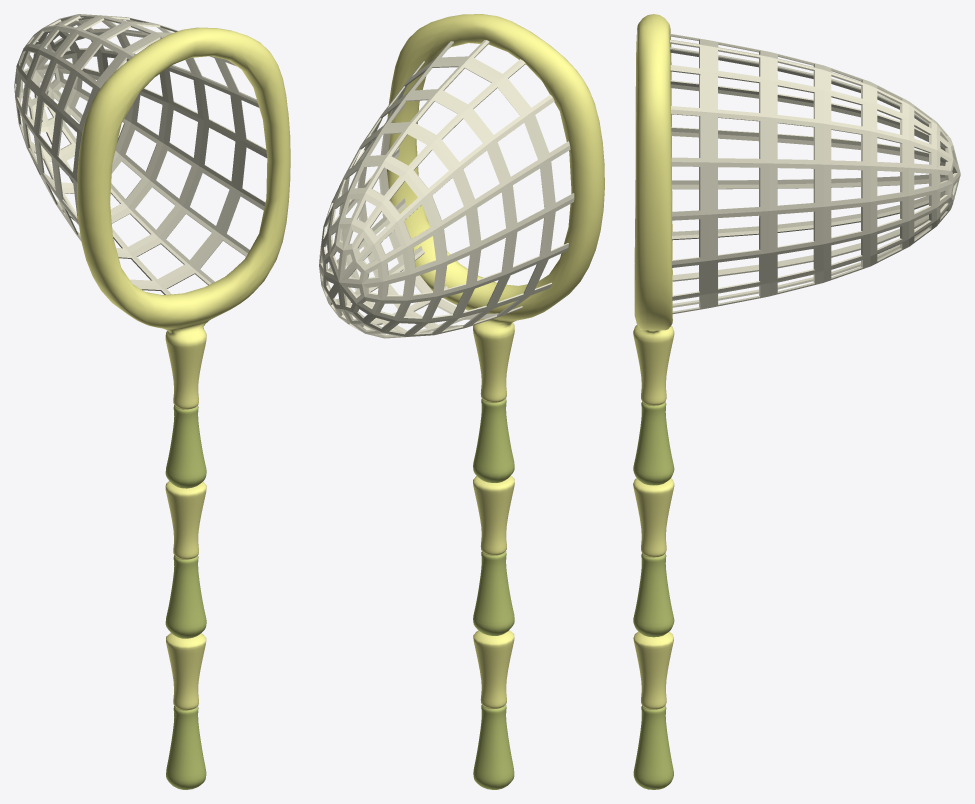
File: SpongeBob's_Jellyfish_Cashing_Net (2).fbx
The picture shows the model from 3 angles, left to right: view 1: azimuth 30°, elevation 25°; view 2: azimuth 150°, elevation 25°; view 3: azimuth 270°, elevation 25°; orthographic projection.
Visible parts, largest first — view 1: wood, net; view 2: net, wood; view 3: net, wood.
Boxes of the visible parts, x1,y1,x2,y2 form: wood: [77, 27, 290, 789]; net: [14, 14, 267, 294]; net: [319, 40, 574, 338]; wood: [387, 14, 604, 789]; net: [670, 33, 960, 313]; wood: [633, 14, 674, 789].
Size of the model in its own units: 619 by 2153 by 838.
